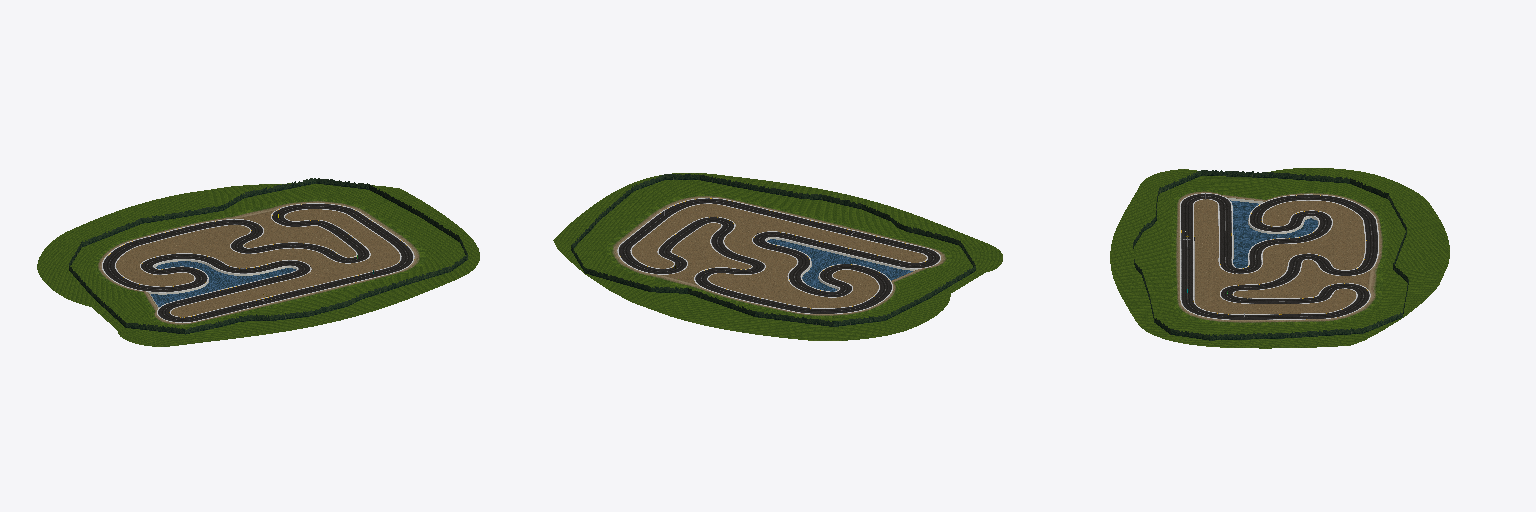
3 views of the same model, side by side, from view 1: azimuth 30°, elevation 25°; view 2: azimuth 150°, elevation 25°; view 3: azimuth 270°, elevation 25° (orthographic).
Visible parts, largest first — view 1: Grass_edge_Grass_edge_0; view 2: Grass_edge_Grass_edge_0; view 3: Grass_edge_Grass_edge_0.
Part boxes in pixels (x1,y1,x2,y2): Grass_edge_Grass_edge_0: (37,178,479,346); Grass_edge_Grass_edge_0: (553,173,1002,340); Grass_edge_Grass_edge_0: (1110,168,1449,348).
Size of the model in its own units: 3906 by 96.05 by 3107.
13 materials, 12 textured.